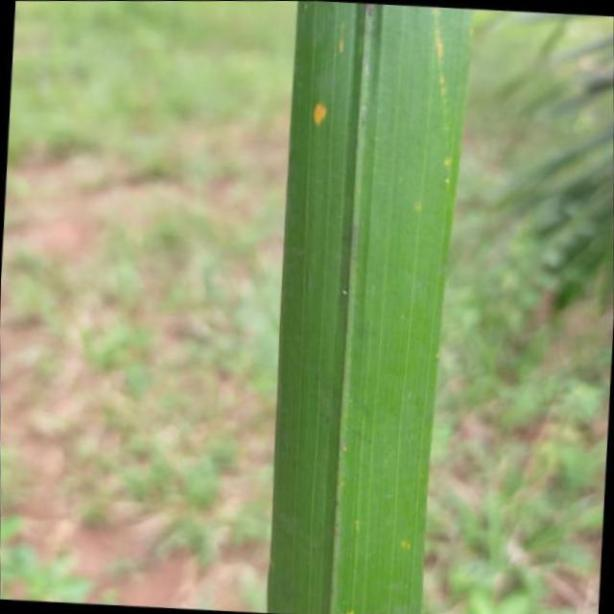Kalium: (266, 0, 470, 614)
